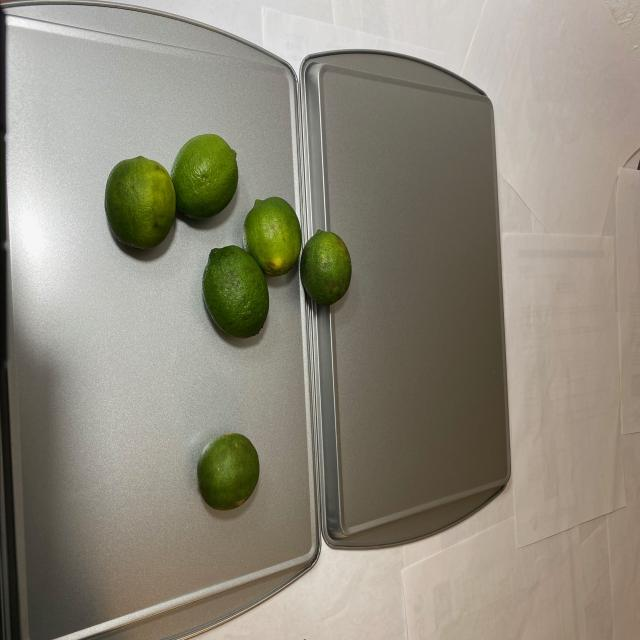lemon: (96, 134, 358, 350), (192, 432, 262, 515)
